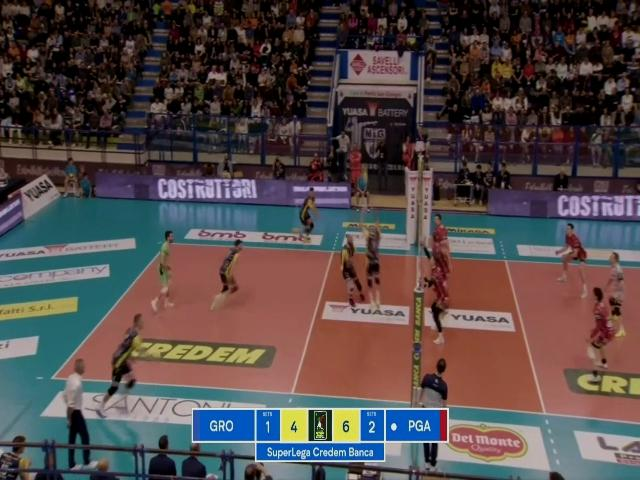volleyball court: (49, 238, 638, 429)
